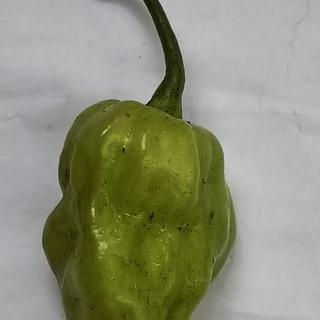Fly-bites: (143, 209, 161, 228), (174, 223, 191, 239), (207, 208, 220, 228), (117, 139, 129, 160), (123, 110, 132, 122)
